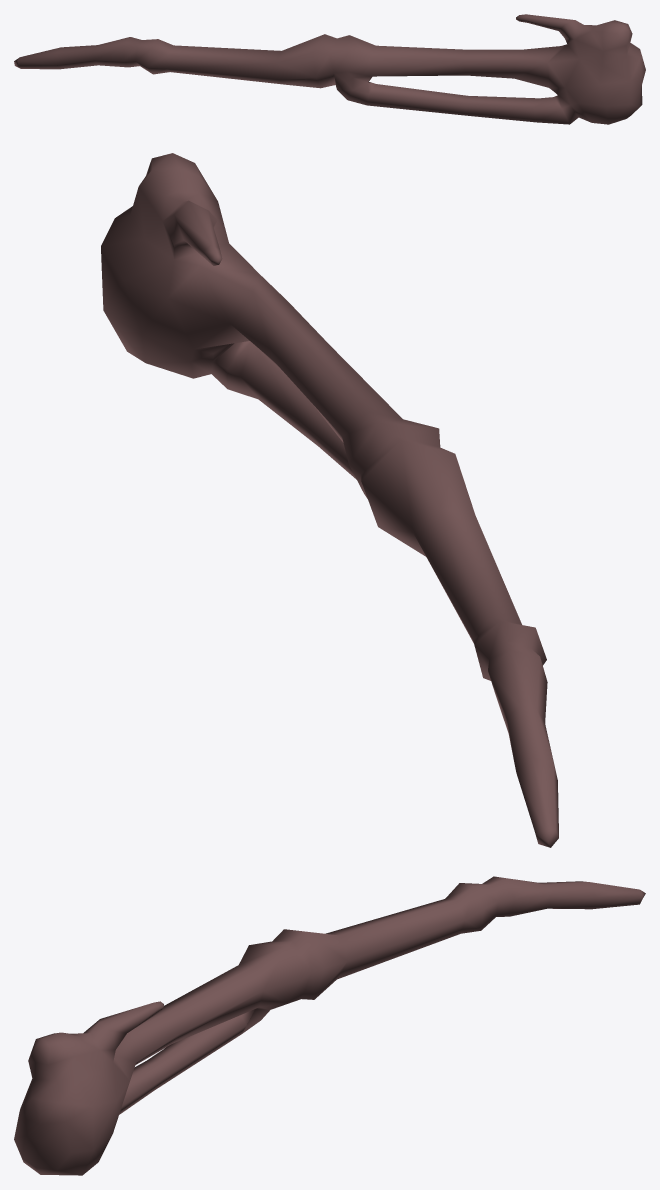
File: SM_BirdSkeletonHand.FBX
3 views of the same model, one above another, from view 1: azimuth 30°, elevation 25°; view 2: azimuth 150°, elevation 25°; view 3: azimuth 270°, elevation 25° (orthographic). The views are drawn at different scales.
Parts seen in each view (by area): view 1: SM_BirdSkeletonHand; view 2: SM_BirdSkeletonHand; view 3: SM_BirdSkeletonHand.
Boxes of the visible parts, <box> form: SM_BirdSkeletonHand: <box>14,14,645,124</box>; SM_BirdSkeletonHand: <box>101,153,558,847</box>; SM_BirdSkeletonHand: <box>14,876,645,1175</box>.
Size of the model in its own units: 72.65 by 16.11 by 65.27.
